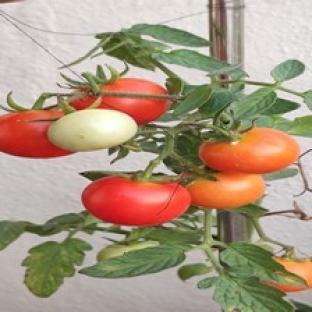Tomato: (83, 176, 190, 225), (200, 129, 299, 174), (48, 109, 137, 151), (0, 111, 72, 158), (187, 173, 266, 208), (98, 95, 171, 125), (265, 257, 311, 292), (97, 241, 158, 261)
